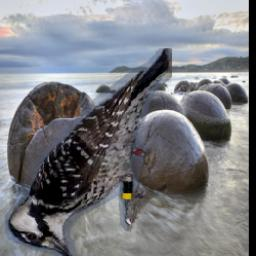Woodpecker: (6, 49, 173, 256)
